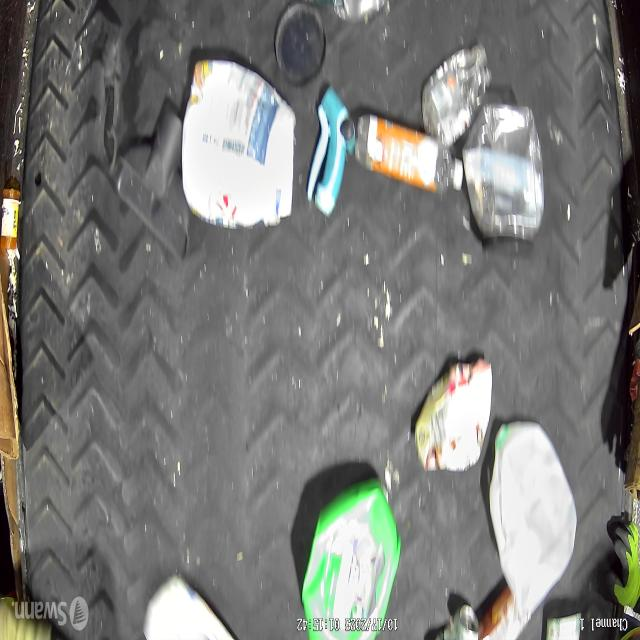can: (440, 600, 481, 640)
milk_jug: (488, 422, 576, 616)
non_white_jug: (302, 479, 401, 640)
plastic_bottle: (422, 43, 494, 150)
